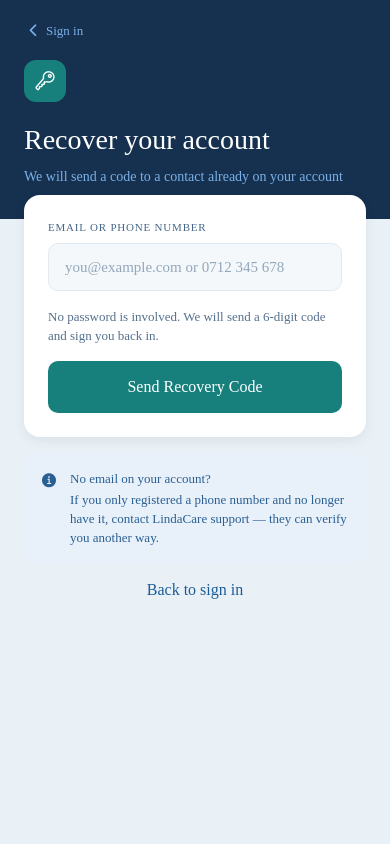
it: what it accepts › refuses something that is neither
The width and height of the screenshot is (390, 844).
Type "jane" into the field named "Email or phone number" at (195, 267), box [48,243,342,291]
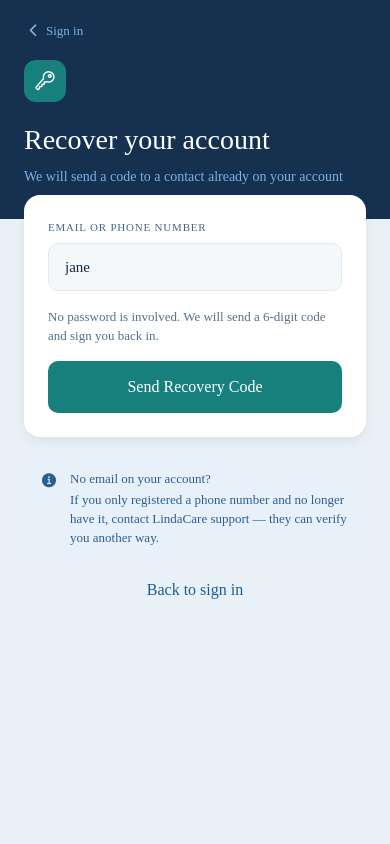
Click the button labelled "Send Recovery Code" at (195, 387), box [48,361,342,413]
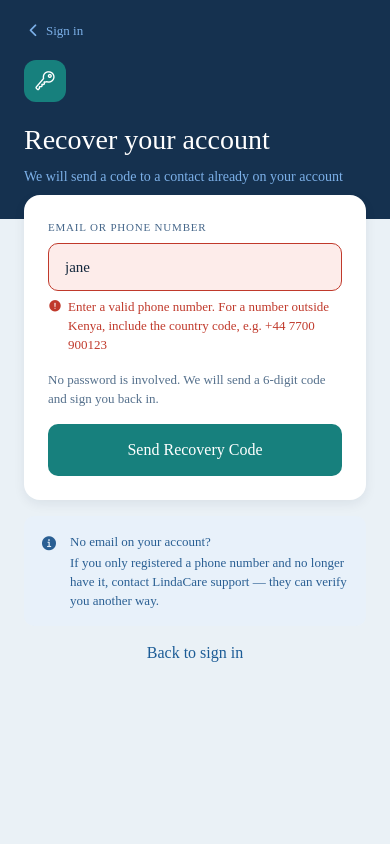
expect the text "Enter a valid phone number" is shown: met, box [68,299,332,352]
